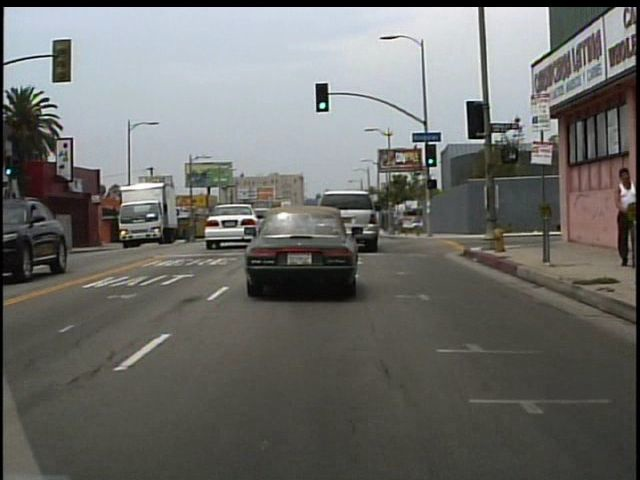person: (609, 166, 638, 268)
